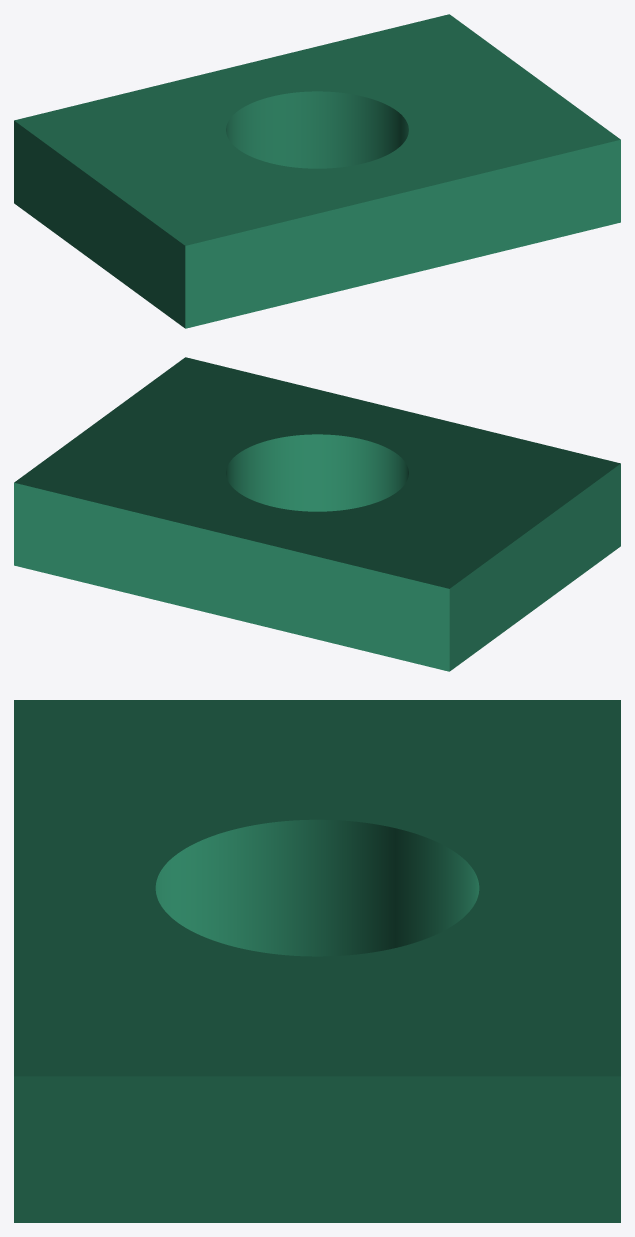
The picture shows the model from 3 angles, top to bottom: view 1: azimuth 30°, elevation 25°; view 2: azimuth 150°, elevation 25°; view 3: azimuth 270°, elevation 25°; orthographic projection. The views are drawn at different scales.
Size of the model in its own units: 44 by 8 by 30.
